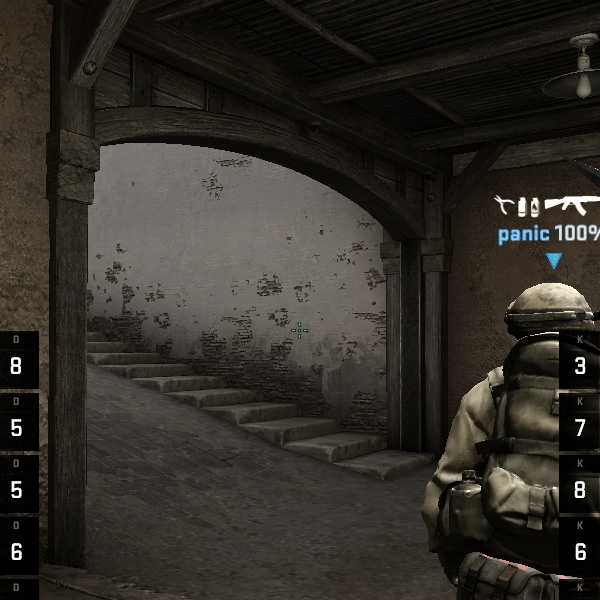ct_body: (411, 262, 596, 600)
ct_head: (489, 273, 600, 390)
